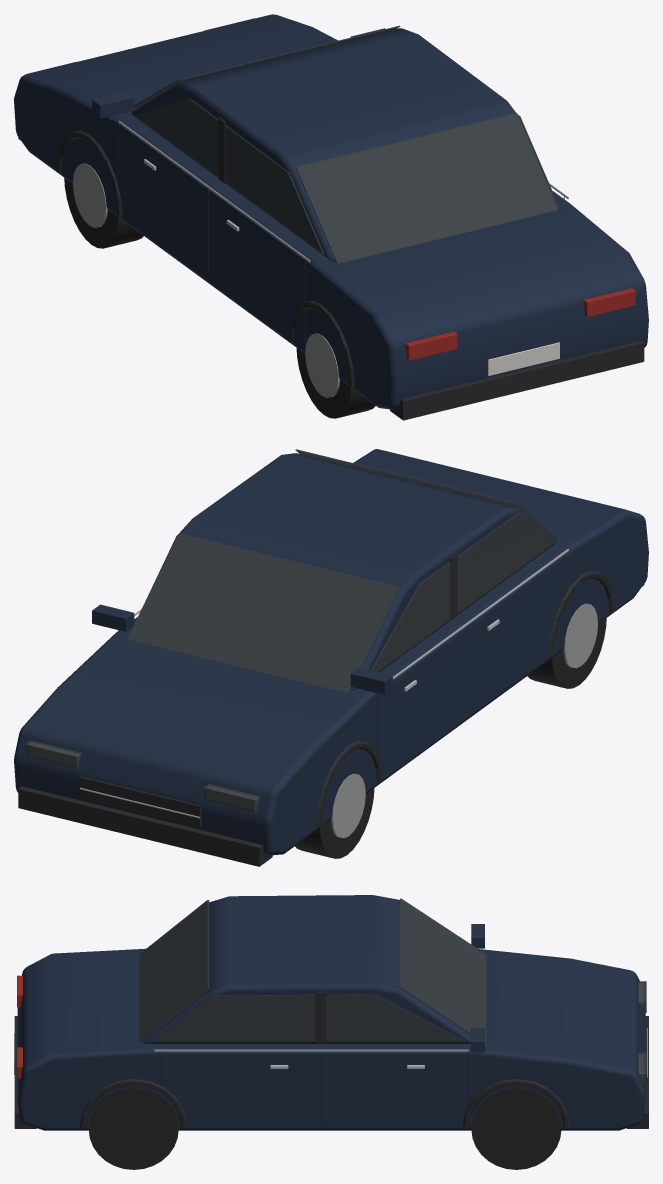
The model's file is veh_car_sedan_navy.glb.
3 views of the same model, one above another, from view 1: azimuth 30°, elevation 25°; view 2: azimuth 150°, elevation 25°; view 3: azimuth 270°, elevation 25° (orthographic). The views are drawn at different scales.
Visible parts, largest first — view 1: Car; view 2: Car; view 3: Car.
Part boxes in pixels (x1,y1,x2,y2): Car: (14,14,648,420); Car: (14,449,648,866); Car: (14,895,648,1169).
Size of what is drawn, in the model's own units: 2.04 by 1.44 by 4.65.
